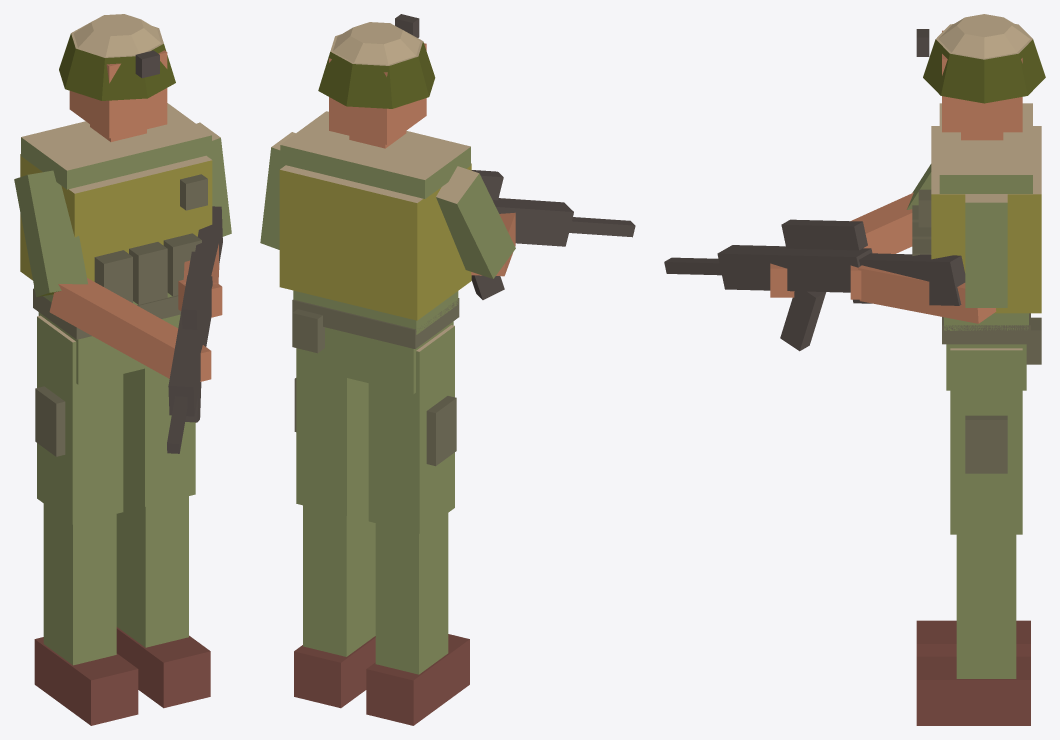
File: SM_SoldadoArmado_v2_G36E_Reposo_LOD0.fbx
The picture shows the model from 3 angles, left to right: view 1: azimuth 30°, elevation 25°; view 2: azimuth 150°, elevation 25°; view 3: azimuth 270°, elevation 25°; orthographic projection.
Parts seen in each view (by area): view 1: SM_bloques.soldado_armado_v2_LOD0; view 2: SM_bloques.soldado_armado_v2_LOD0; view 3: SM_bloques.soldado_armado_v2_LOD0.
Part boxes in pixels (bbox=[...]): SM_bloques.soldado_armado_v2_LOD0: bbox=[14, 14, 231, 725]; SM_bloques.soldado_armado_v2_LOD0: bbox=[260, 14, 635, 725]; SM_bloques.soldado_armado_v2_LOD0: bbox=[664, 14, 1045, 725].
Size of the model in its own units: 0.5789 by 1.75 by 0.9.
